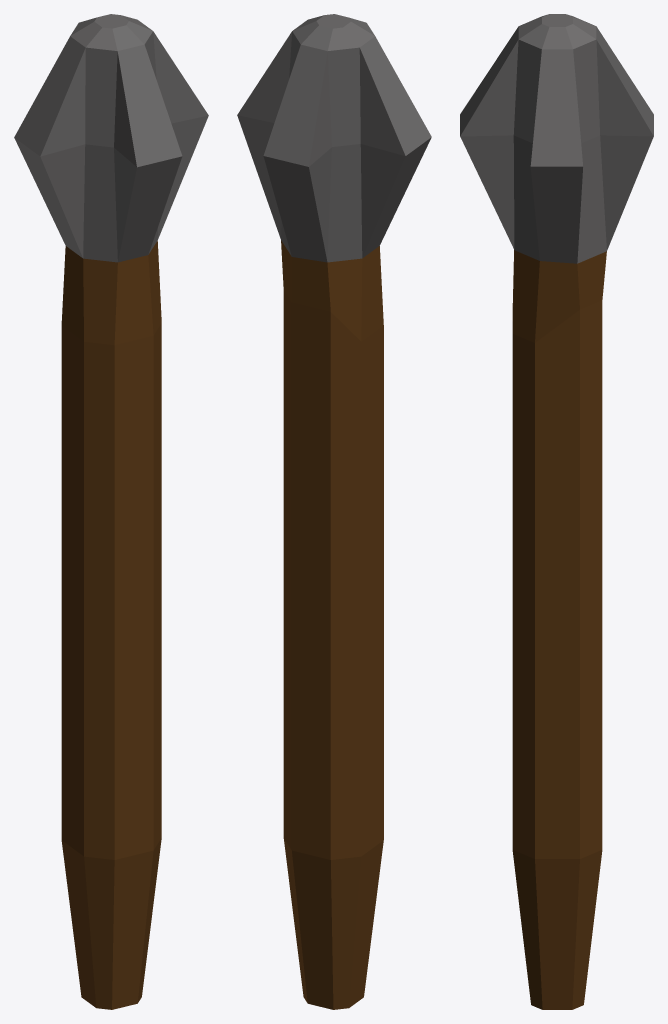
File: IronMace.glb
3 renders of one model, left to right at view 1: azimuth 30°, elevation 25°; view 2: azimuth 150°, elevation 25°; view 3: azimuth 270°, elevation 25°, orthographic.
Parts seen in each view (by area): view 1: Mace; view 2: Mace; view 3: Mace.
Part boxes in pixels (left/top/right/bottom): Mace: left=14, top=14, right=208, bottom=1009; Mace: left=237, top=14, right=431, bottom=1009; Mace: left=460, top=14, right=653, bottom=1009.
Bounding box in the file's own units: 0.1021 × 0.5647 × 0.1013.
